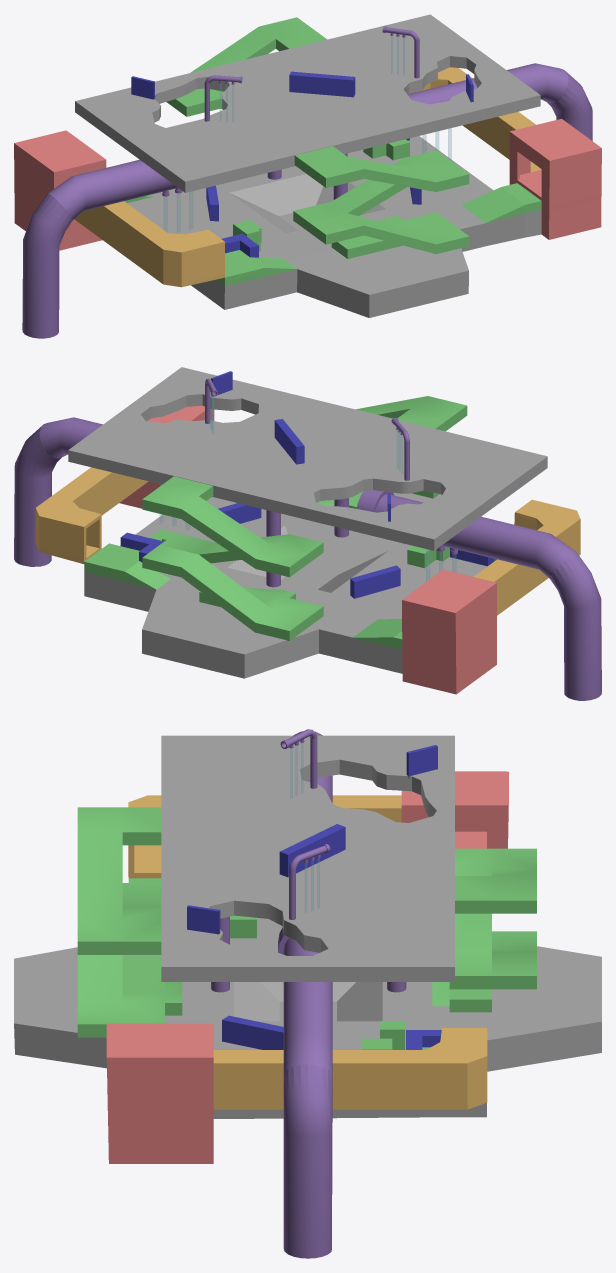
The model's file is Level_base_prototype_1.2.fbx.
The picture shows the model from 3 angles, top to bottom: view 1: azimuth 30°, elevation 25°; view 2: azimuth 150°, elevation 25°; view 3: azimuth 270°, elevation 25°; orthographic projection. The views are drawn at different scales.
Visible parts, largest first — view 1: level_base_1, level_base_2, Ramp_2, PIpe_L, Pipe_R, Ramp_1, middle_barrier, lvl_2_pipe_1 (×2), L_barrier1, side_barrier_1; view 2: level_base_1, level_base_2, Ramp_1, PIpe_L, Pipe_R, Ramp_2, barrier1, middle_barrier, L_barrier2, barrier2, Pillar_pipe_1, pCube1; view 3: level_base_1, level_base_2, Ramp_2, Pipe_R, Ramp_1, barrier2, middle_barrier, lvl_2_pipe_1 (×2), side_barrier_2, side_barrier_1.
Boxes of the visible parts, bbox=[...] form: level_base_1: bbox=[14, 67, 601, 317]; level_base_2: bbox=[75, 14, 540, 192]; Ramp_2: bbox=[293, 146, 469, 258]; PIpe_L: bbox=[22, 159, 182, 338]; Pipe_R: bbox=[408, 63, 592, 140]; Ramp_1: bbox=[166, 17, 326, 116]; middle_barrier: bbox=[289, 71, 355, 97]; lvl_2_pipe_1 (×2): bbox=[204, 26, 419, 121]; L_barrier1: bbox=[221, 233, 258, 257]; side_barrier_1: bbox=[131, 76, 154, 99]; level_base_1: bbox=[35, 405, 580, 694]; level_base_2: bbox=[68, 367, 547, 550]; Ramp_1: bbox=[142, 476, 323, 641]; PIpe_L: bbox=[356, 490, 601, 700]; Pipe_R: bbox=[14, 417, 102, 566]; Ramp_2: bbox=[317, 396, 467, 508]; barrier1: bbox=[350, 565, 400, 598]; middle_barrier: bbox=[274, 419, 304, 464]; L_barrier2: bbox=[120, 532, 163, 562]; barrier2: bbox=[218, 503, 261, 523]; Pillar_pipe_1: bbox=[266, 510, 280, 587]; pCube1: bbox=[407, 545, 436, 568]; level_base_1: bbox=[14, 771, 601, 1163]; level_base_2: bbox=[161, 735, 454, 981]; Ramp_2: bbox=[77, 807, 182, 1037]; Pipe_R: bbox=[278, 927, 332, 1258]; Ramp_1: bbox=[432, 848, 536, 1012]; barrier2: bbox=[222, 1015, 283, 1049]; middle_barrier: bbox=[279, 824, 345, 877]; lvl_2_pipe_1 (×2): bbox=[280, 729, 330, 919]; side_barrier_2: bbox=[187, 905, 220, 934]; side_barrier_1: bbox=[406, 745, 437, 778].
Bounding box in the file's own units: 2139 × 773 × 1443.
